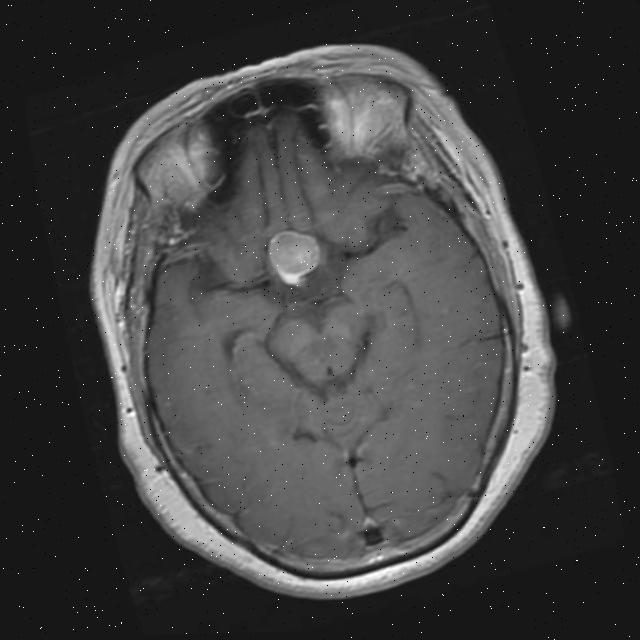Pituitary: (263, 220, 328, 287)
